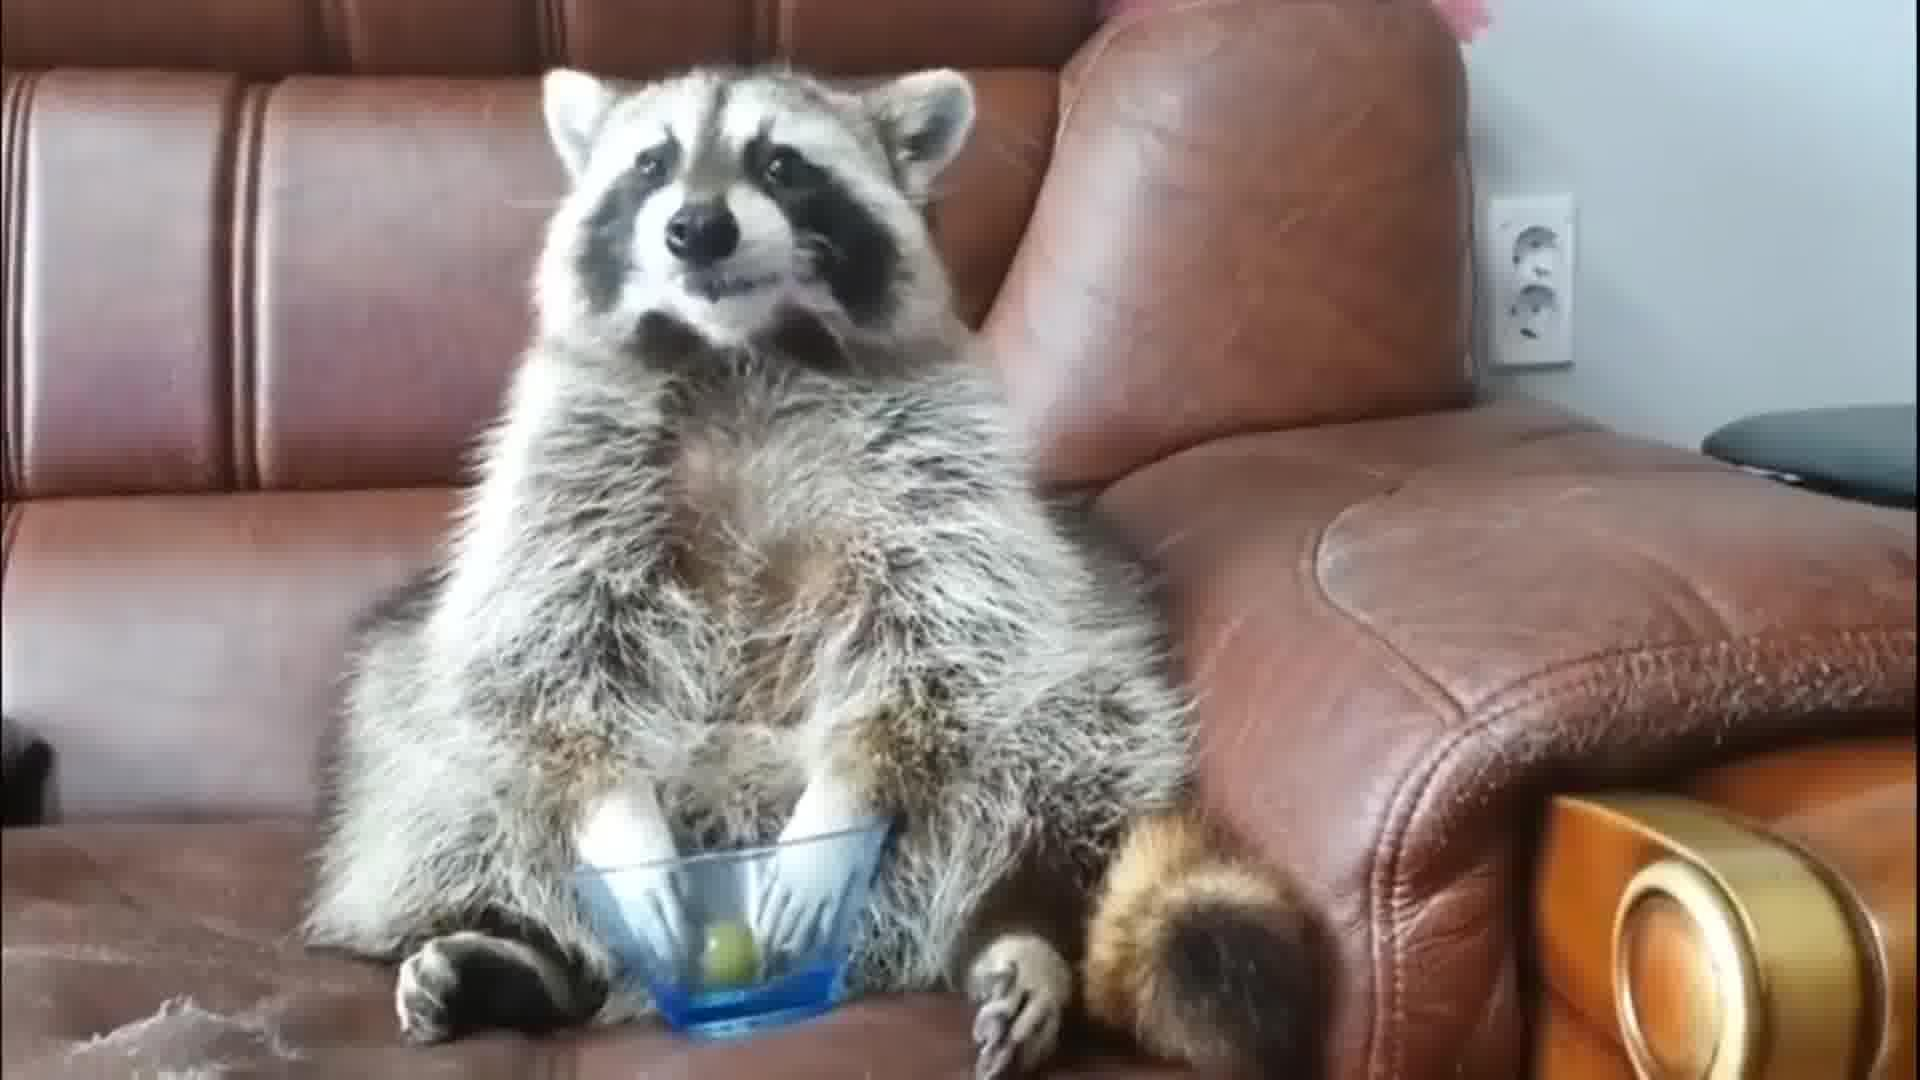raccoon: (296, 54, 1341, 1080)
